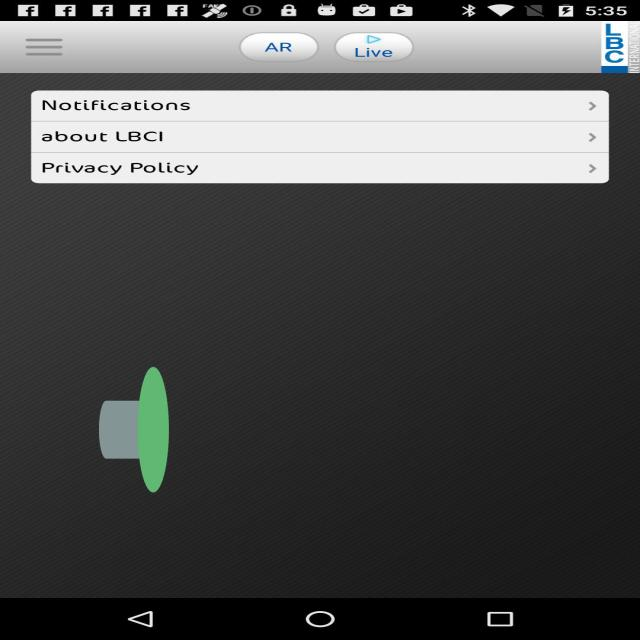social proof: (99, 290, 169, 570)
